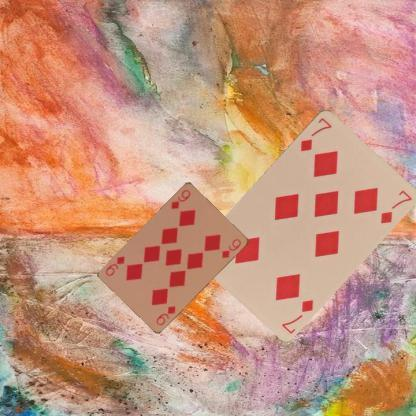7d: (278, 296, 315, 336), (298, 115, 334, 152)
9d: (168, 187, 192, 210), (154, 302, 176, 326)
